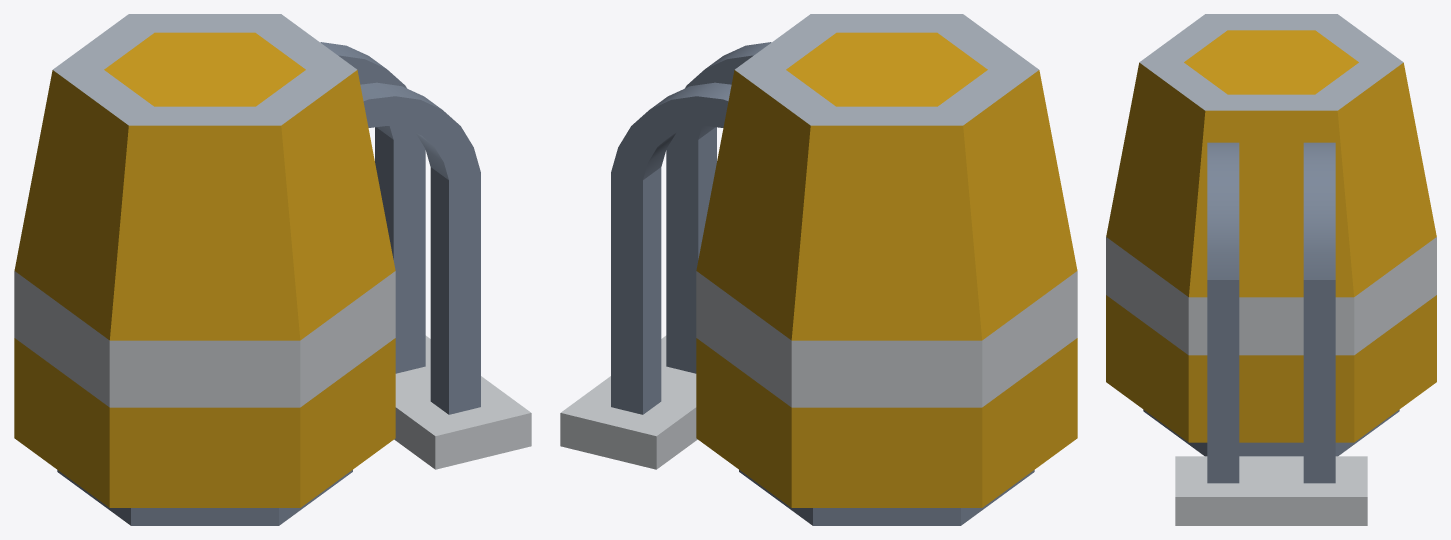
File: machine-barrel.glb
3 views of the same model, side by side, from view 1: azimuth 30°, elevation 25°; view 2: azimuth 150°, elevation 25°; view 3: azimuth 270°, elevation 25° (orthographic). The views are drawn at different scales.
Visible parts, largest first — view 1: machine_barrel; view 2: machine_barrel; view 3: machine_barrel.
Part boxes in pixels (<box>): machine_barrel: <box>14,14,531,525</box>; machine_barrel: <box>560,14,1077,525</box>; machine_barrel: <box>1106,14,1436,525</box>.
Size of the model in its own units: 1.29 by 1.2 by 1.03.
